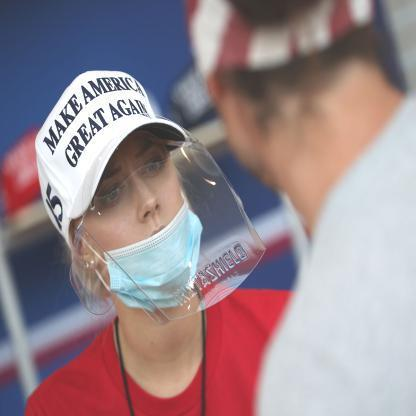mask_weared_incorrect: (66, 130, 210, 318)
